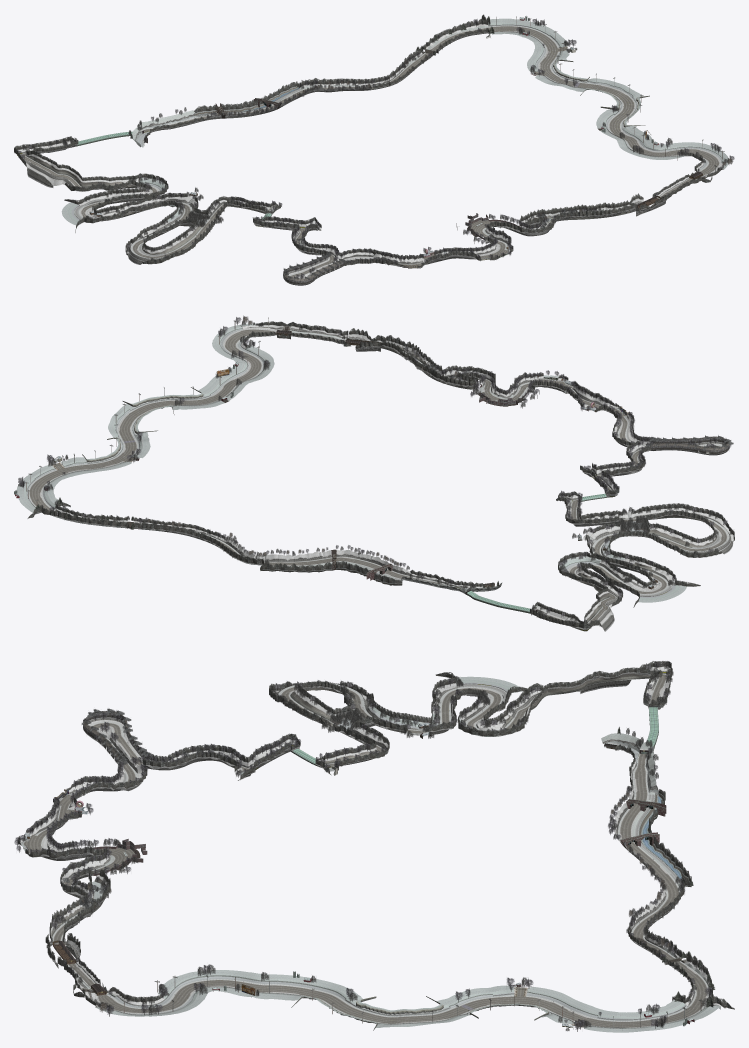
File: nfs_iii_hot_pursuit_-_country_woods.glb
The picture shows the model from 3 angles, top to bottom: view 1: azimuth 30°, elevation 25°; view 2: azimuth 150°, elevation 25°; view 3: azimuth 270°, elevation 25°; orthographic projection. The views are drawn at different scales.
Parts seen in each view (by area): view 1: no part large enough to name; view 2: no part large enough to name; view 3: 0011.020_material_atlas_00002_1_0, 0002.013_material_atlas_00002_1_0, 0006.019_material_atlas_00002_1_0, 0022.013_material_atlas_00002_1_0, 0009.021_material_atlas_00002_1_0, 0010.020_material_atlas_00002_1_0, 0007.024_material_atlas_00002_1_0.
Boxes of the visible parts, left/top/right/bottom form: 0011.020_material_atlas_00002_1_0: left=270, top=683, right=384, bottom=742; 0002.013_material_atlas_00002_1_0: left=159, top=970, right=346, bottom=993; 0006.019_material_atlas_00002_1_0: left=15, top=810, right=113, bottom=859; 0022.013_material_atlas_00002_1_0: left=451, top=985, right=601, bottom=1013; 0009.021_material_atlas_00002_1_0: left=131, top=744, right=260, bottom=777; 0010.020_material_atlas_00002_1_0: left=254, top=736, right=386, bottom=769; 0007.024_material_atlas_00002_1_0: left=54, top=762, right=148, bottom=815.
Bounding box in the file's own units: 2012 × 122 × 1608.
1 material, 1 textured.
